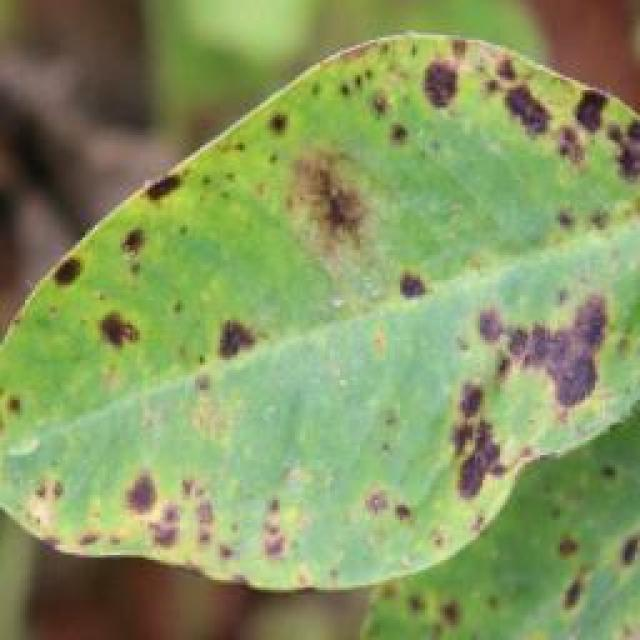Yellowish: (0, 23, 640, 625)
